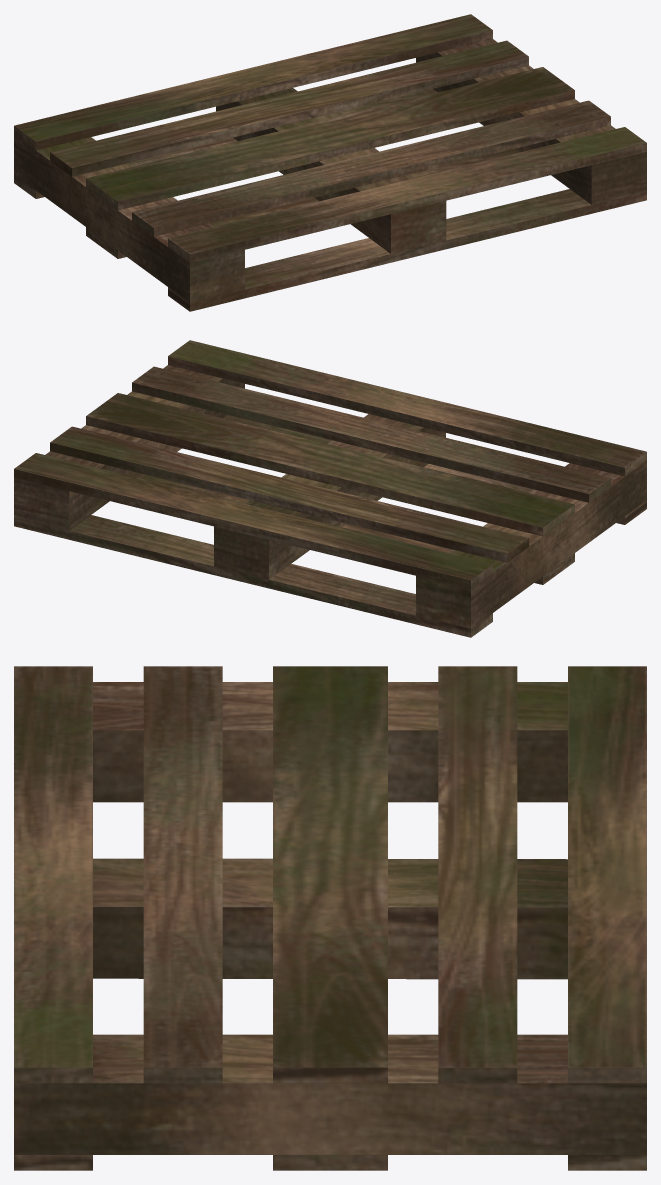
Rendered from Palette.fbx.
The picture shows the model from 3 angles, top to bottom: view 1: azimuth 30°, elevation 25°; view 2: azimuth 150°, elevation 25°; view 3: azimuth 270°, elevation 25°; orthographic projection. The views are drawn at different scales.
Parts seen in each view (by area): view 1: object_4; view 2: object_4; view 3: object_4.
Part boxes in pixels (left/top/right/bottom): object_4: left=14, top=14, right=646, bottom=311; object_4: left=14, top=340, right=646, bottom=637; object_4: left=14, top=666, right=646, bottom=1170.
Size of the model in its own units: 12000 by 1440 by 8000.
